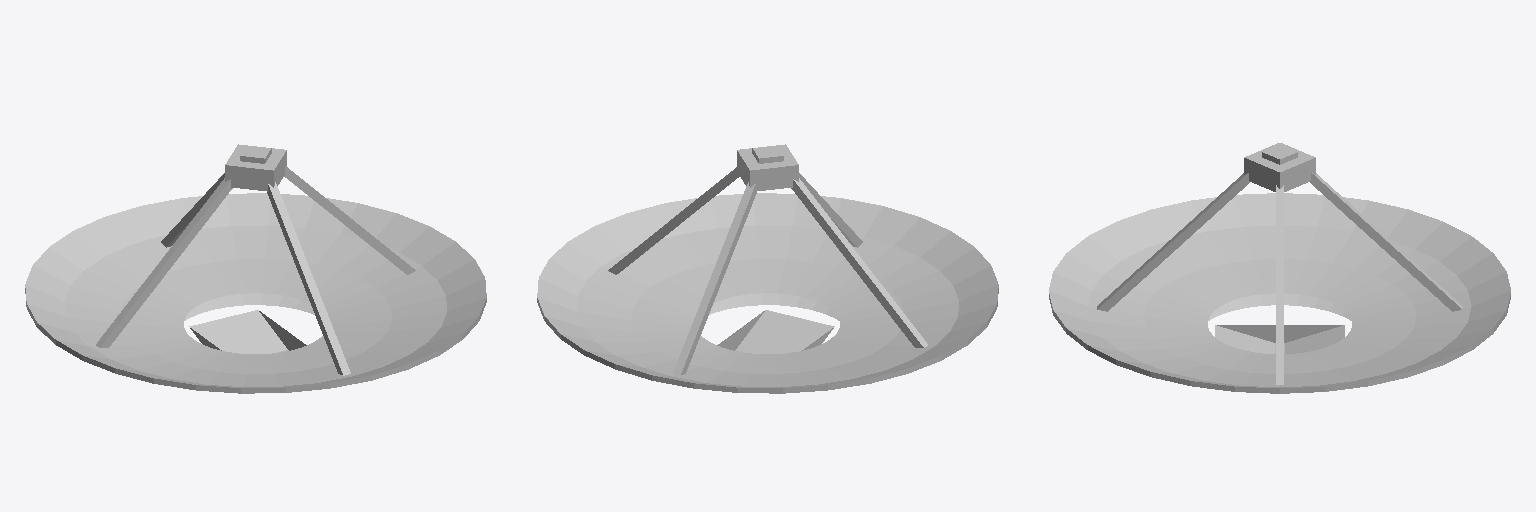
File: teledish.obj
3 views of the same model, side by side, from view 1: azimuth 30°, elevation 25°; view 2: azimuth 150°, elevation 25°; view 3: azimuth 270°, elevation 25° (orthographic).
Size of the model in its own units: 4.64 by 2.3 by 4.64.